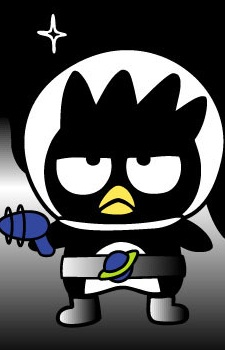batsumaru: (32, 70, 216, 326)
